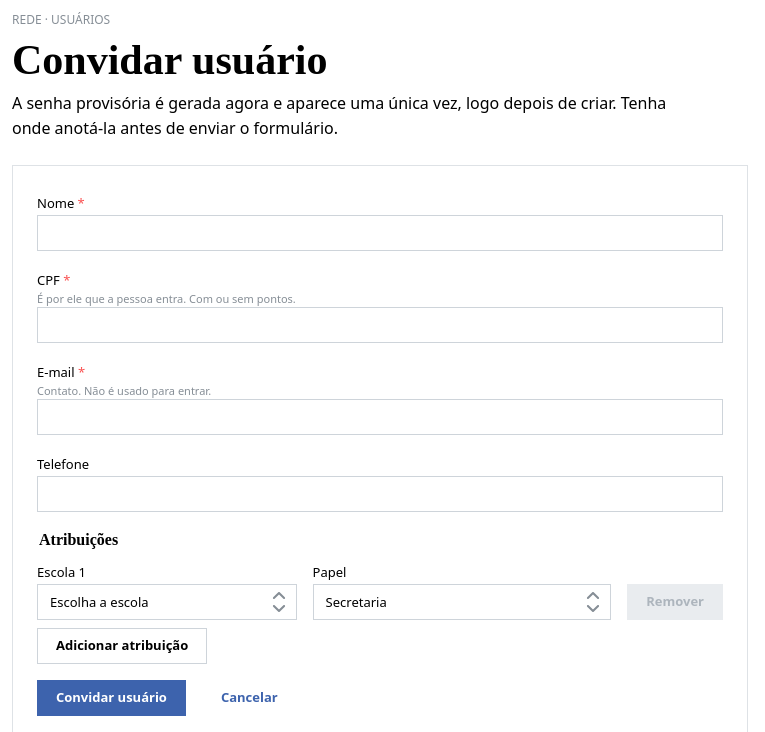
Test: a repeated invitation › is reported as done, not as failed, because the user the first send created does exist
Type "Joana Ribeiro" into the field labelled "Nome".
click(380, 233); type("Joana Ribeiro")  # box [37,215,723,251]
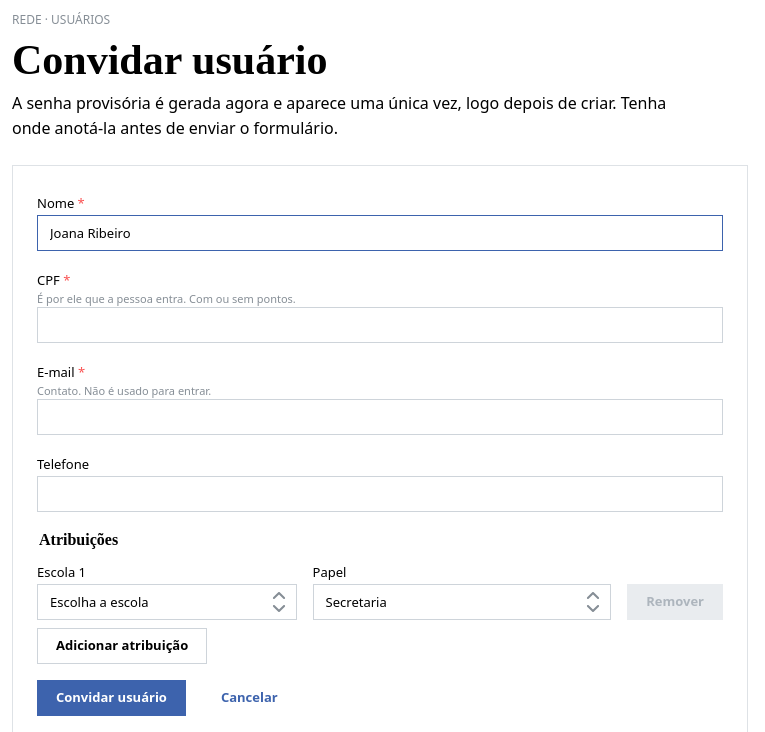
Type "52998224725" into the field labelled "CPF".
click(380, 325); type("52998224725")  # box [37,307,723,343]
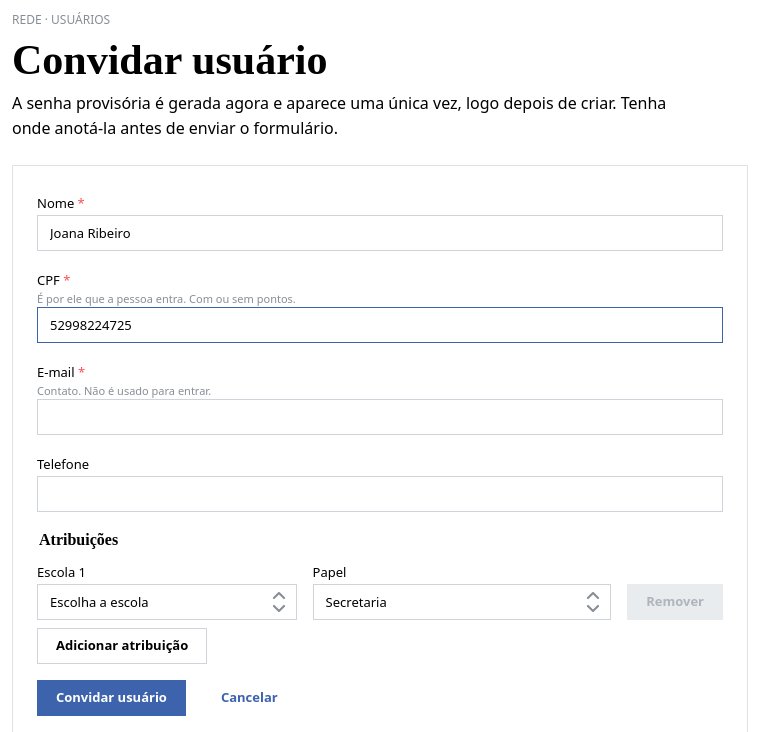
Type "joana@escolaviva.test" into the field labelled "E-mail".
click(380, 417); type("joana@escolaviva.test")  # box [37,399,723,435]
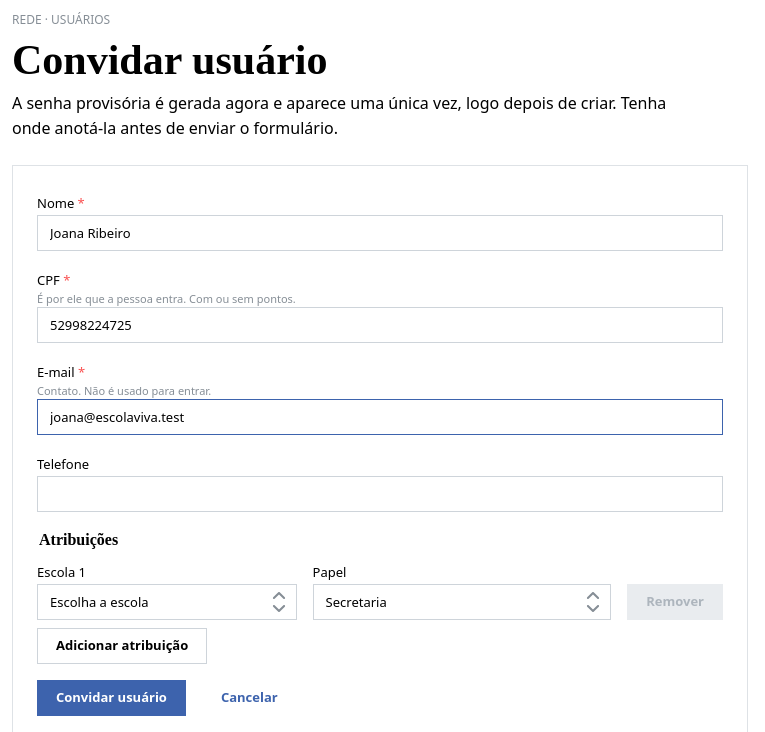
Select "Escola Central" in the dropdown labelled "Escola 1" at (167, 602), box [37,584,297,620]
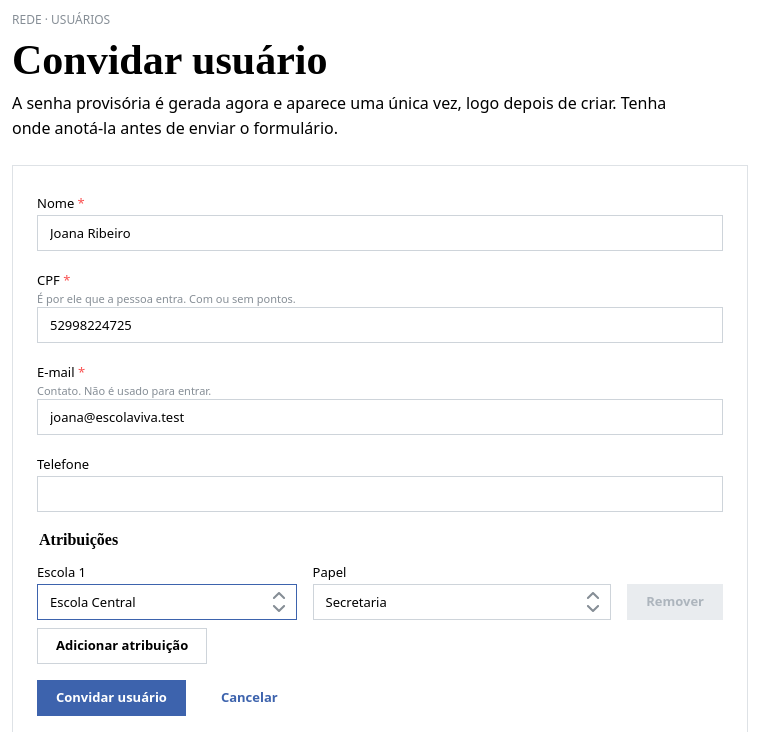
Click the button "Convidar usuário".
click(111, 698)  # box [37,680,186,716]
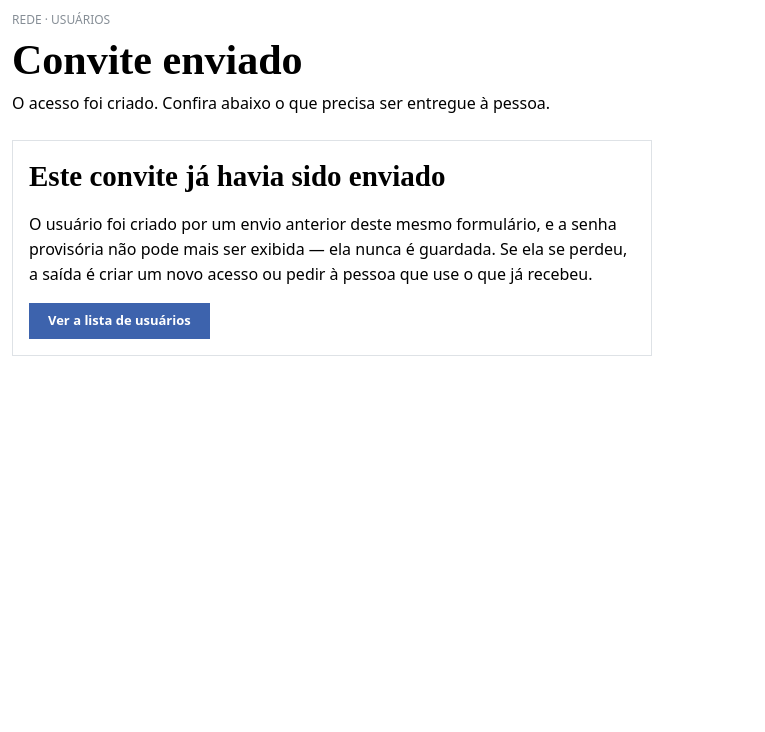
Check: the heading "Este convite já havia sido enviado" is shown, box [29,160,446,192]
